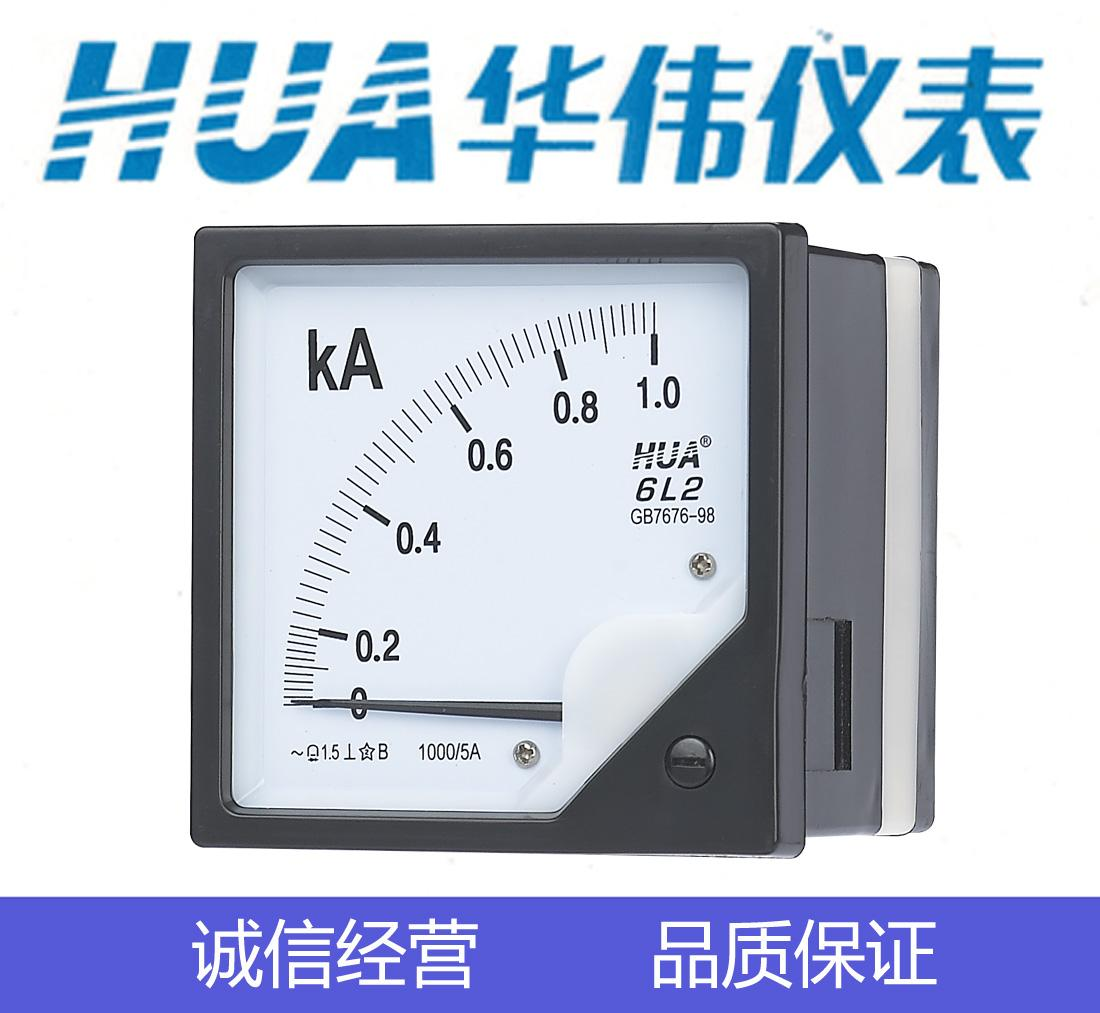pointer: (219, 258, 755, 816)
